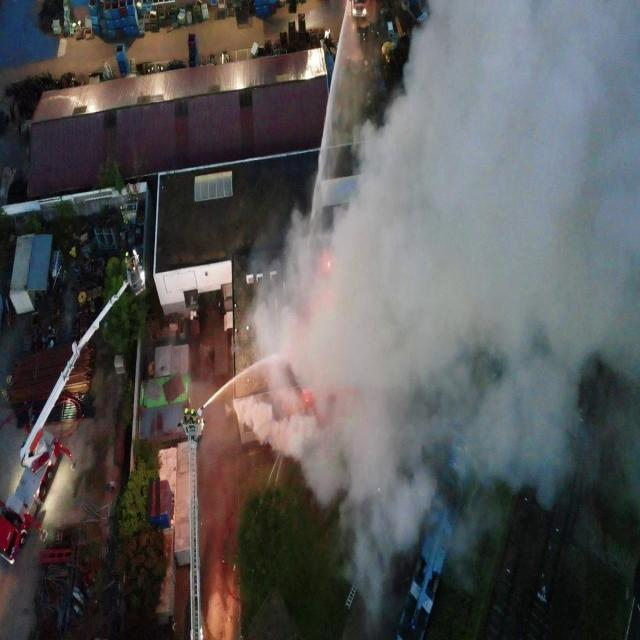Fire: (328, 260, 330, 268)
Smoke: (231, 0, 640, 633)
